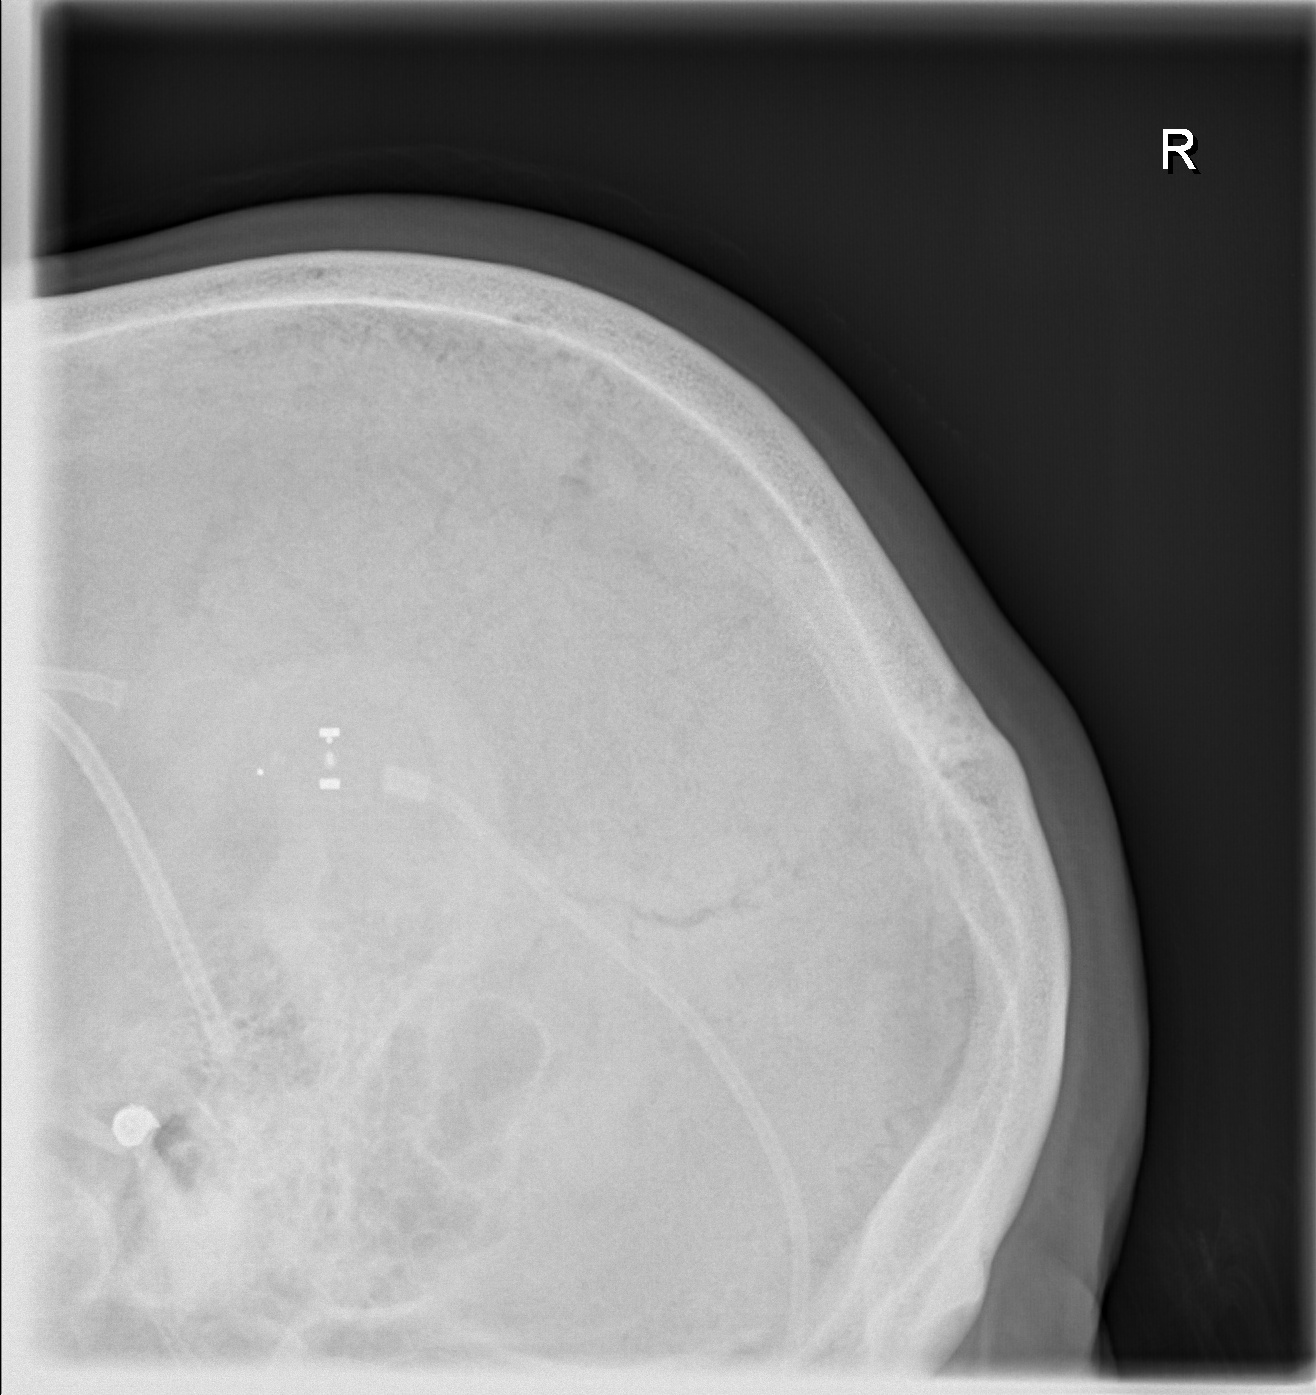Codman Certas: (239, 702, 386, 820)
